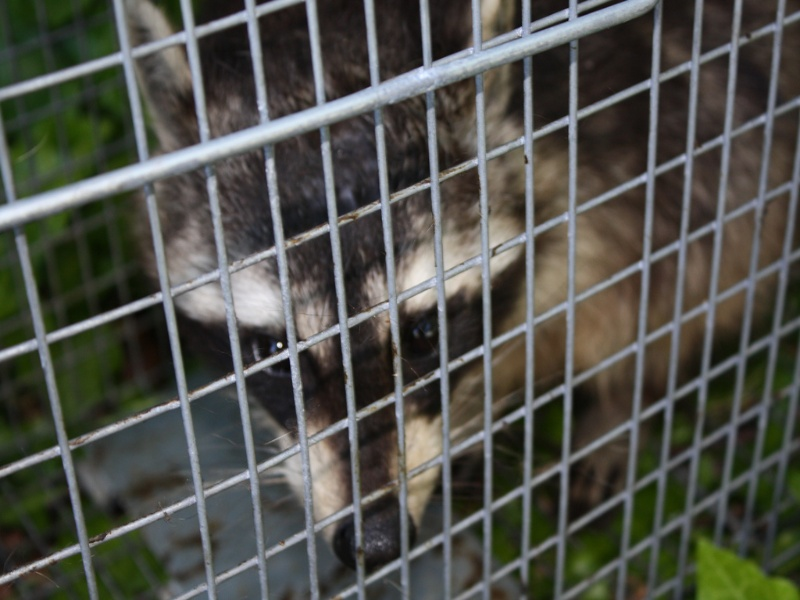raccoon: (112, 9, 780, 572)
